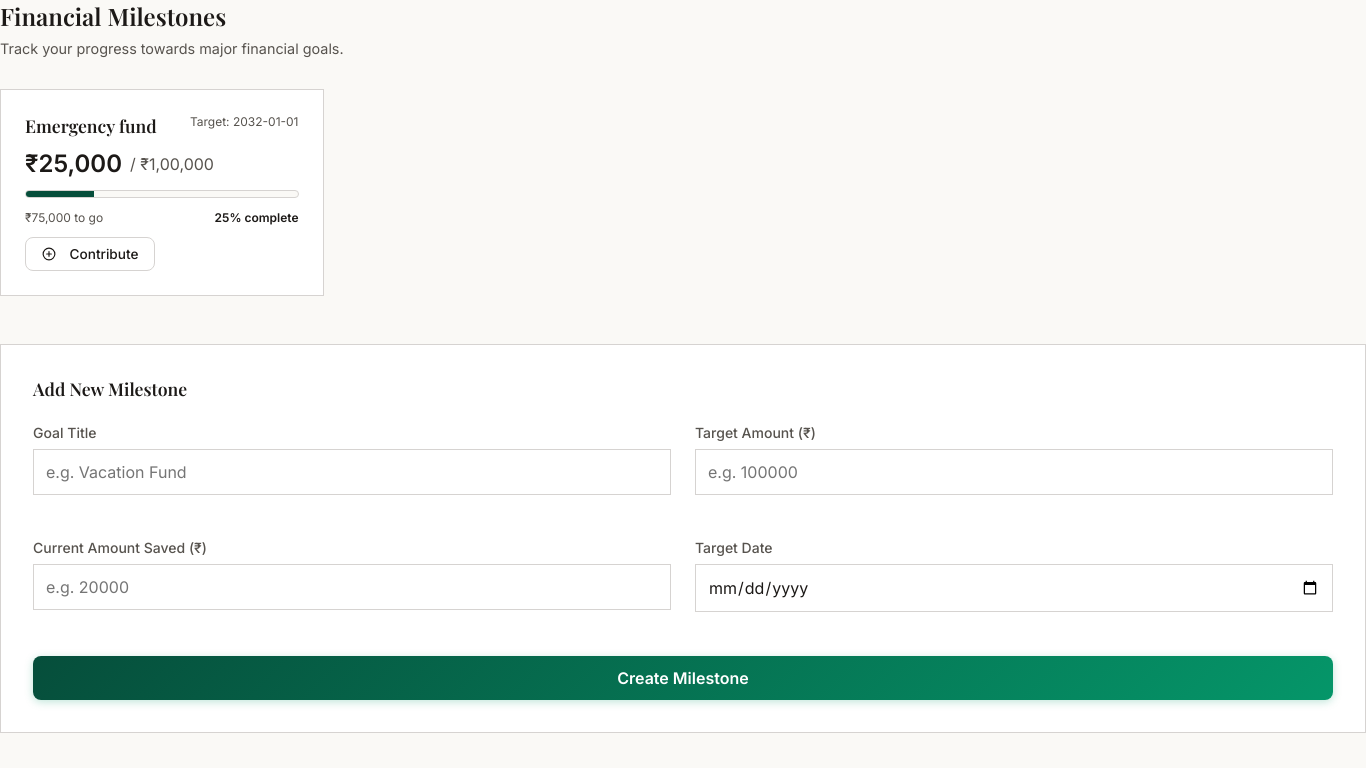
Milestones page › contribution flow › an update/network failure keeps the dialog open with the error visible
This screenshot has width=1366, height=768.
Expected: the heading "Emergency fund" is shown, x1=25 y1=114 x2=157 y2=137
Click the button "Contribute": (90, 254) x1=25 y1=237 x2=155 y2=271
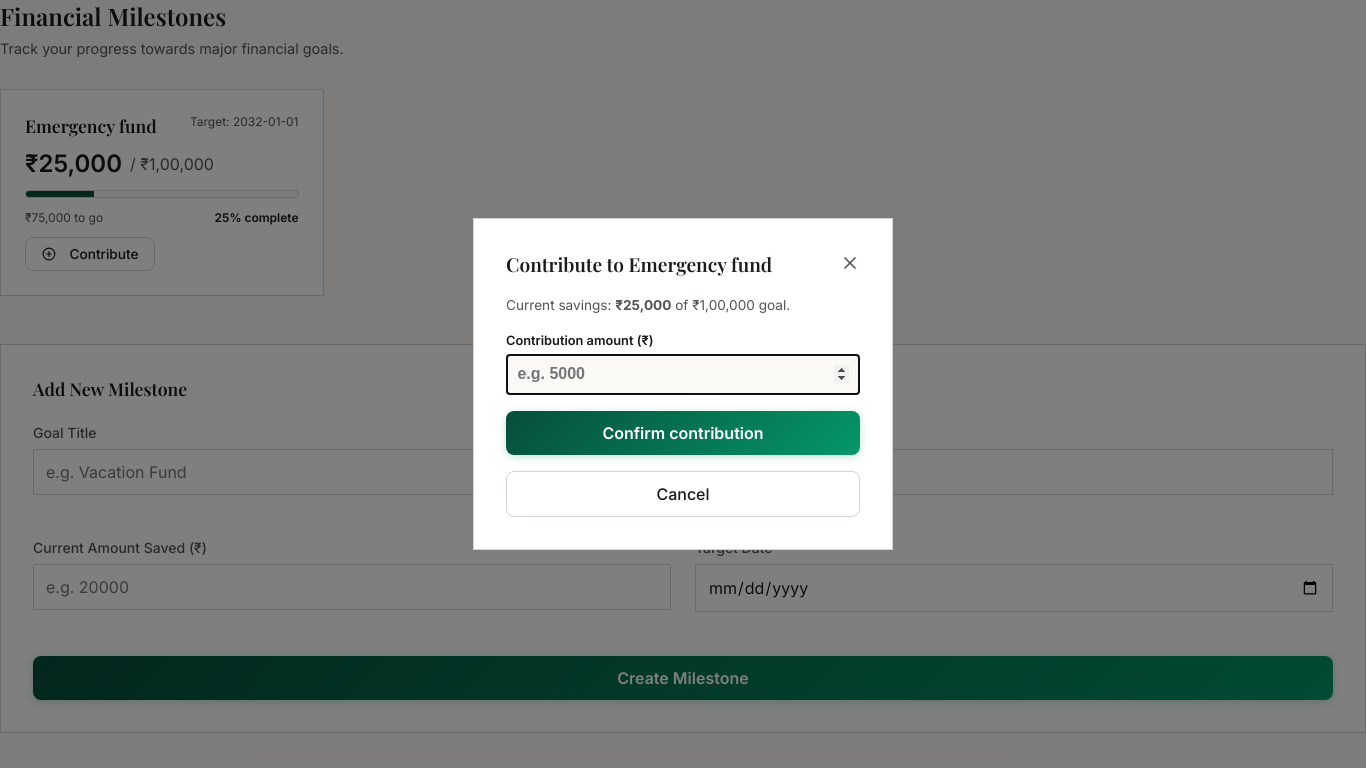
In the number field labelled "Contribution amount (₹)": (683, 374) x1=506 y1=354 x2=860 y2=395, type "100"
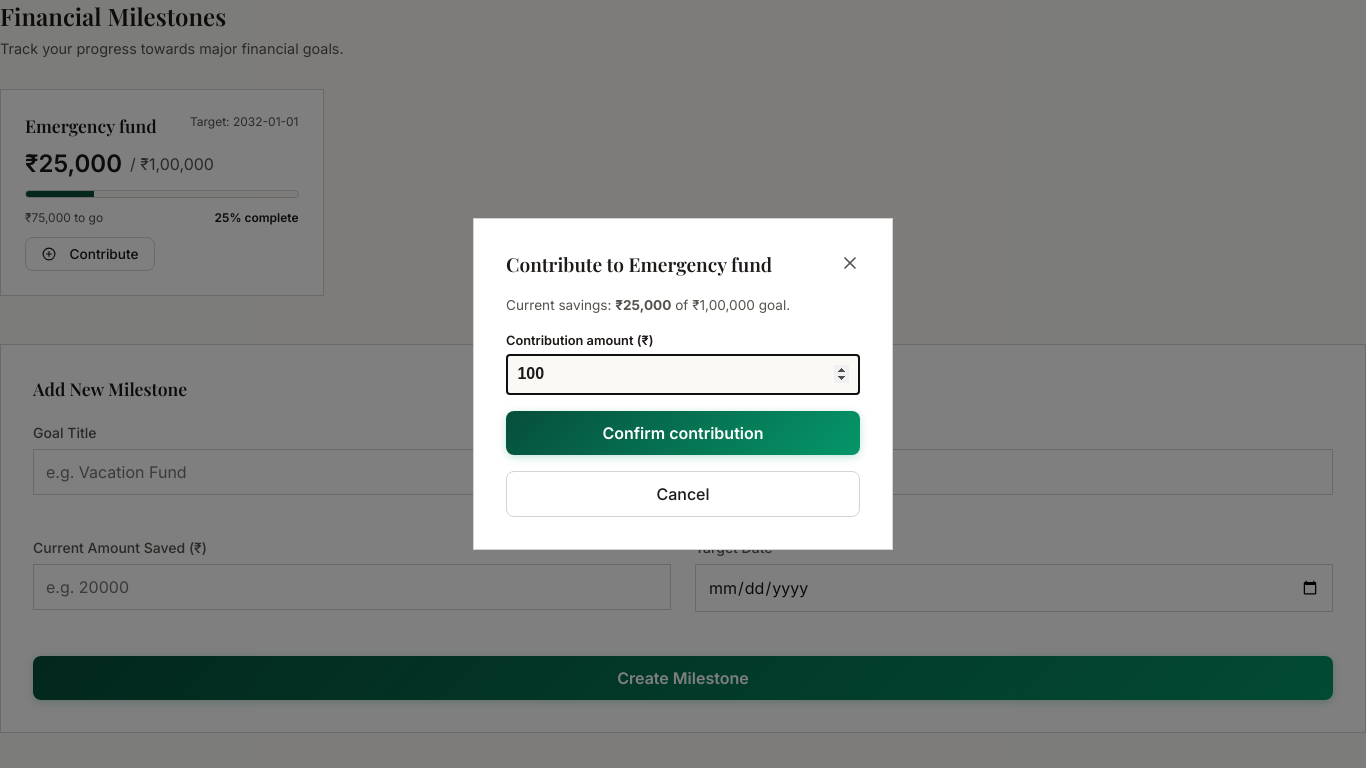
Click the button "Confirm contribution": (683, 433) x1=506 y1=411 x2=860 y2=455
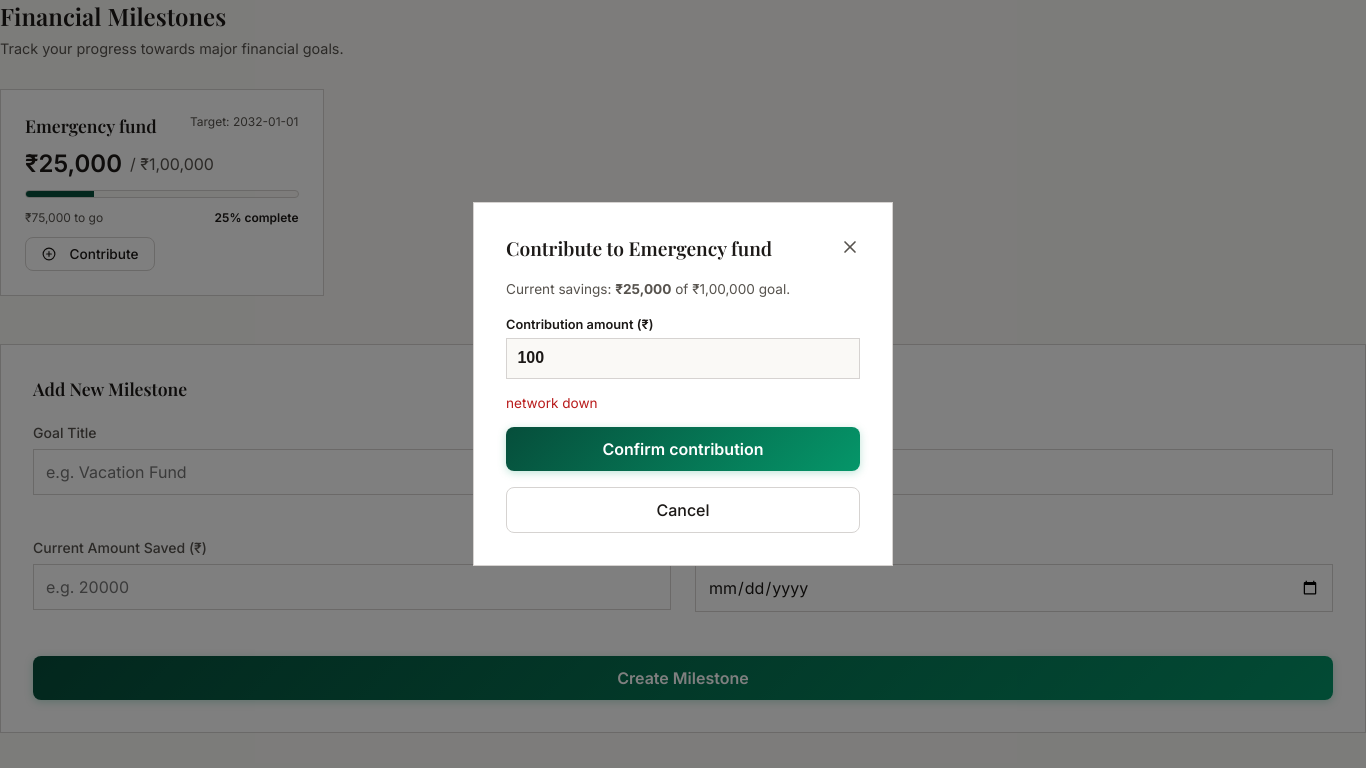
Result: the dialog is shown
Result: the text "network down" is shown at x1=506 y1=395 x2=598 y2=411
